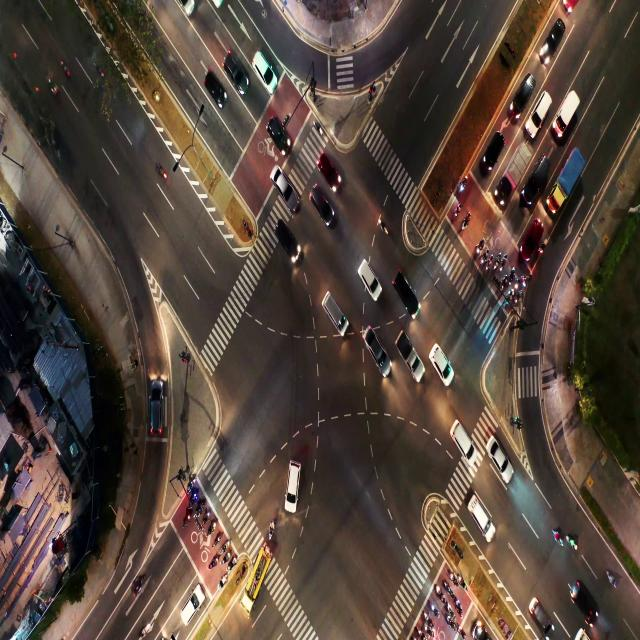bus: (254, 566, 260, 583)
car: (151, 384, 162, 422), (395, 277, 409, 301), (206, 73, 221, 95), (226, 57, 242, 77), (532, 599, 544, 622), (578, 587, 589, 610), (473, 508, 487, 526), (368, 336, 380, 356), (186, 593, 196, 615), (437, 344, 445, 371), (494, 448, 505, 467), (318, 154, 331, 170), (266, 114, 276, 134), (489, 138, 499, 158), (279, 229, 291, 245), (457, 426, 466, 447), (550, 28, 559, 49), (325, 295, 336, 312), (527, 230, 537, 246), (288, 471, 297, 488), (520, 84, 529, 100), (538, 102, 546, 120), (259, 54, 266, 73), (277, 176, 288, 188), (314, 188, 324, 200), (534, 165, 540, 185), (364, 260, 370, 276)
motorcycle: (49, 76, 58, 96), (568, 536, 577, 554), (314, 118, 322, 138), (552, 532, 562, 548), (98, 64, 106, 83), (61, 60, 70, 75), (158, 167, 168, 180), (268, 520, 275, 538), (379, 221, 388, 235), (607, 566, 613, 586), (462, 218, 469, 233), (142, 627, 150, 636), (432, 602, 436, 616), (192, 492, 197, 503), (219, 579, 224, 590), (461, 182, 466, 193), (184, 515, 190, 524), (458, 576, 464, 585), (444, 582, 450, 591), (455, 600, 461, 609), (458, 624, 464, 633), (416, 627, 422, 636), (524, 275, 528, 288), (136, 582, 140, 592), (212, 558, 216, 568), (454, 208, 458, 218), (499, 264, 504, 272), (450, 572, 454, 582), (229, 560, 233, 569), (508, 274, 512, 283), (424, 613, 428, 622), (204, 512, 209, 519), (221, 556, 226, 563), (446, 615, 451, 622), (436, 586, 440, 594), (209, 524, 214, 530), (477, 245, 480, 255), (540, 244, 545, 250), (189, 480, 193, 487), (198, 502, 202, 509), (508, 293, 512, 300), (514, 298, 518, 305), (447, 603, 451, 610), (215, 536, 219, 542), (223, 544, 227, 550), (515, 280, 518, 288), (425, 626, 429, 632), (495, 262, 497, 270), (502, 282, 504, 290), (481, 259, 484, 264), (486, 264, 488, 271)
truck: (561, 165, 573, 193), (399, 336, 414, 356), (564, 94, 572, 121), (509, 163, 516, 180)
